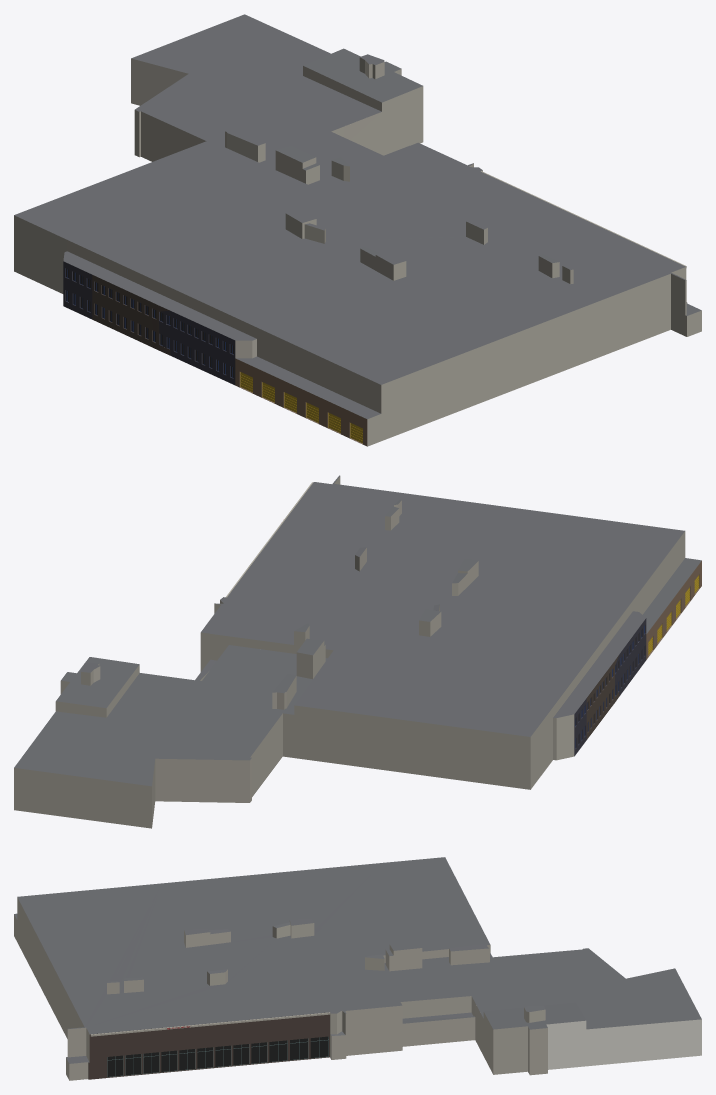
Rendered from recipe-large-cgm-190-202277.glb.
3 renders of one model, top to bottom at view 1: azimuth 30°, elevation 25°; view 2: azimuth 150°, elevation 25°; view 3: azimuth 270°, elevation 25°, orthographic. The views are drawn at different scales.
Visible parts, largest first — view 1: cgm-190-202277; view 2: cgm-190-202277; view 3: cgm-190-202277.
Part boxes in pixels (x1,y1,x2,y2): cgm-190-202277: [14, 14, 701, 446]; cgm-190-202277: [14, 475, 701, 828]; cgm-190-202277: [14, 857, 701, 1080].
Size of the model in its own units: 96.04 by 14.6 by 156.
